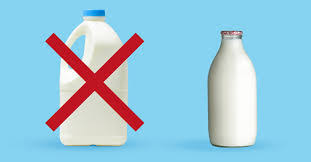milk: (204, 21, 262, 149)
